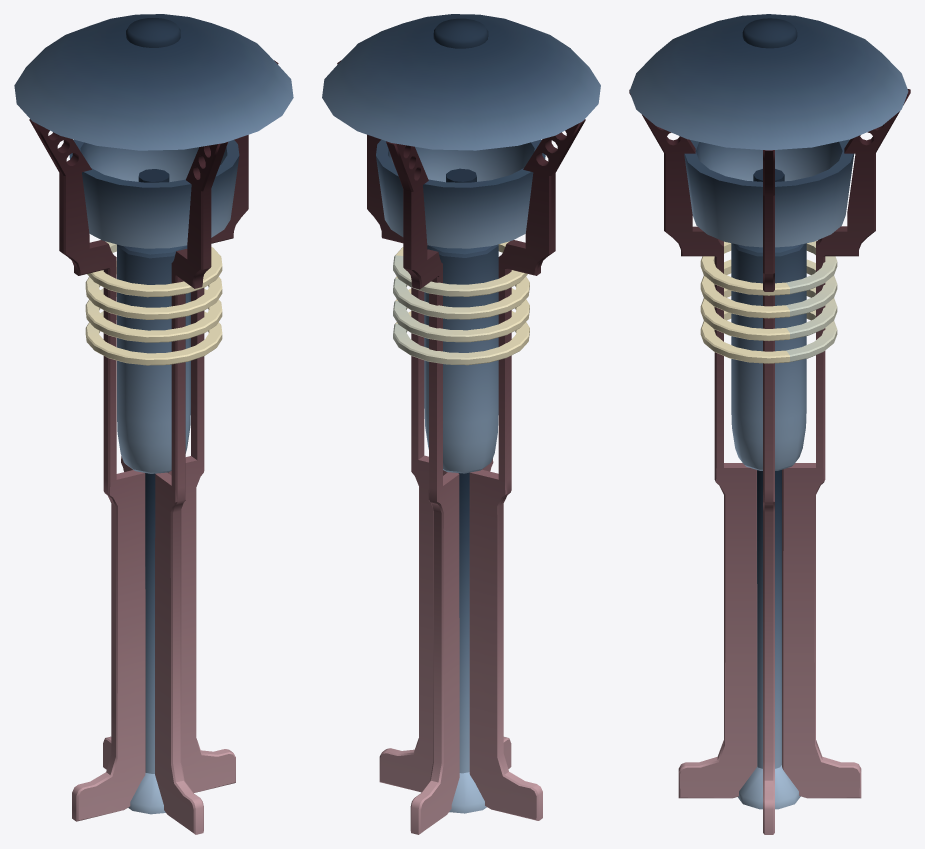
File: ENV_Spire_02.FBX
3 renders of one model, left to right at view 1: azimuth 30°, elevation 25°; view 2: azimuth 150°, elevation 25°; view 3: azimuth 270°, elevation 25°, orthographic.
Parts seen in each view (by area): view 1: ENV_Spire_02; view 2: ENV_Spire_02; view 3: ENV_Spire_02.
Boxes of the visible parts, bbox=[...] form: ENV_Spire_02: bbox=[14, 14, 293, 834]; ENV_Spire_02: bbox=[322, 14, 600, 834]; ENV_Spire_02: bbox=[629, 14, 910, 834].
Size of the model in its own units: 439 by 1329 by 439.
2 materials, 2 textured.
